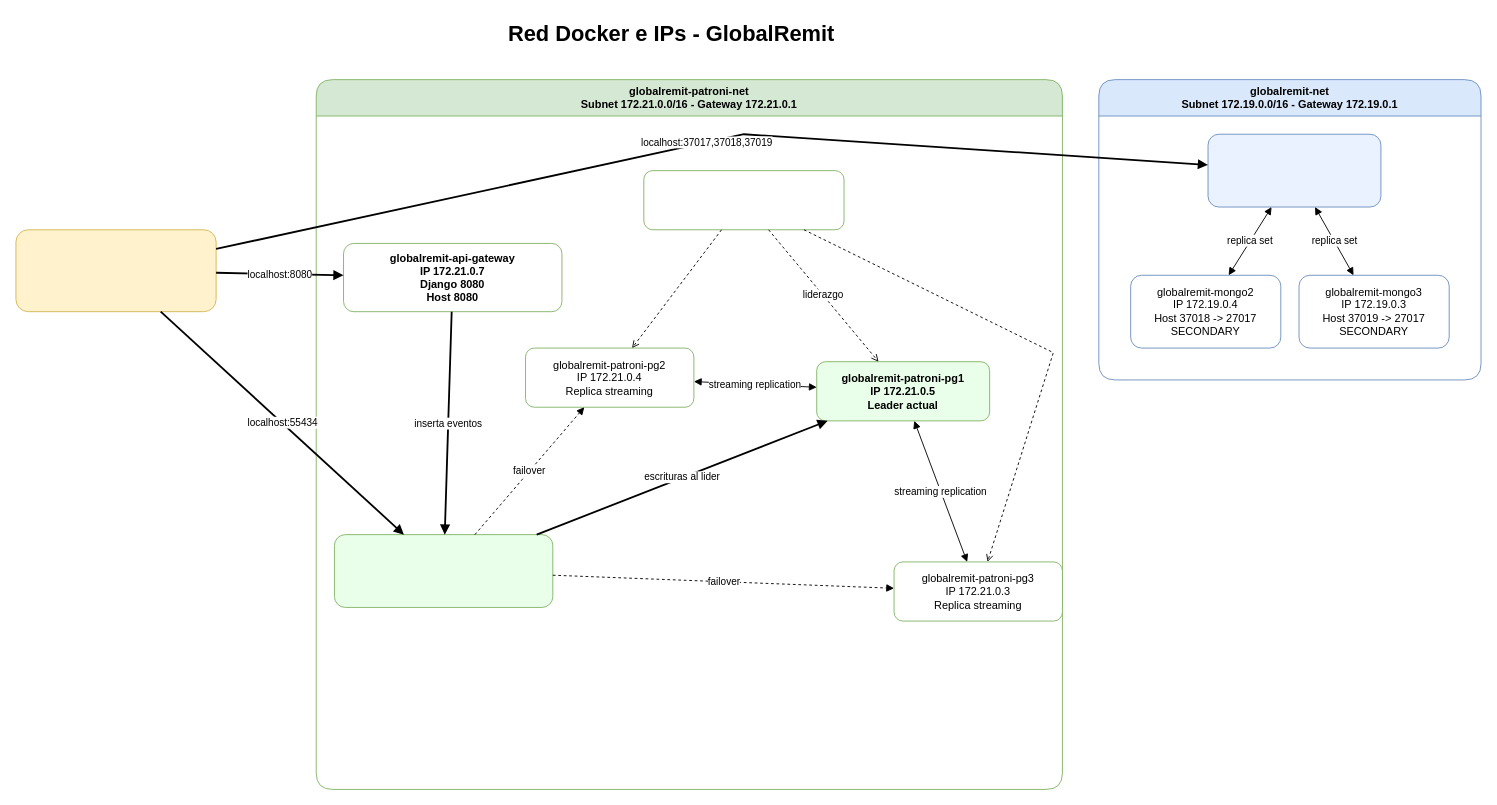
This 1497x805 diagram has some shape labels left out. Each missing label, with the centre of its shape:
"globalremit-mongo1 IP 172.19.0.2 Host 37017 -> 27017 PRIMARY" goes at point 1294,170.
"globalremit-patroni-etcd IP 172.21.0.2 etcd 2379/2380" goes at point 743,200.
"globalremit-patroni-haproxy IP 172.21.0.6 Host 55434 -> 5432 Stats 8405" goes at point 443,570.
"Host Windows localhost / 127.0.0.1" goes at point 115,270.
